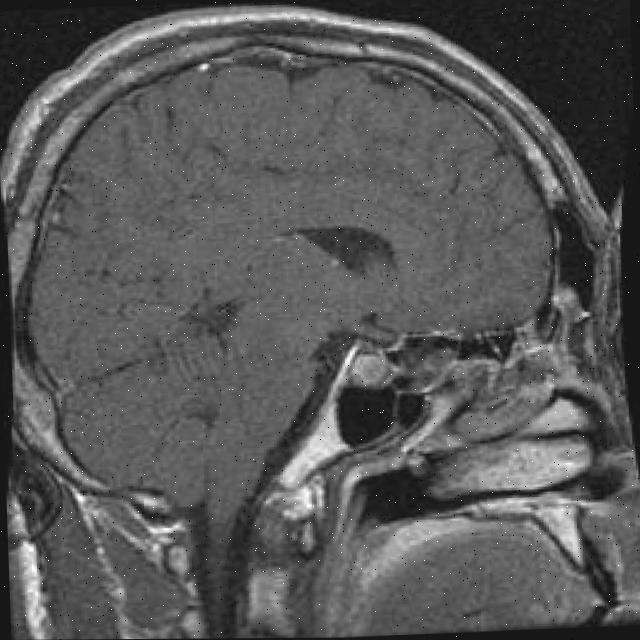Pituitary: (350, 351, 391, 390)
